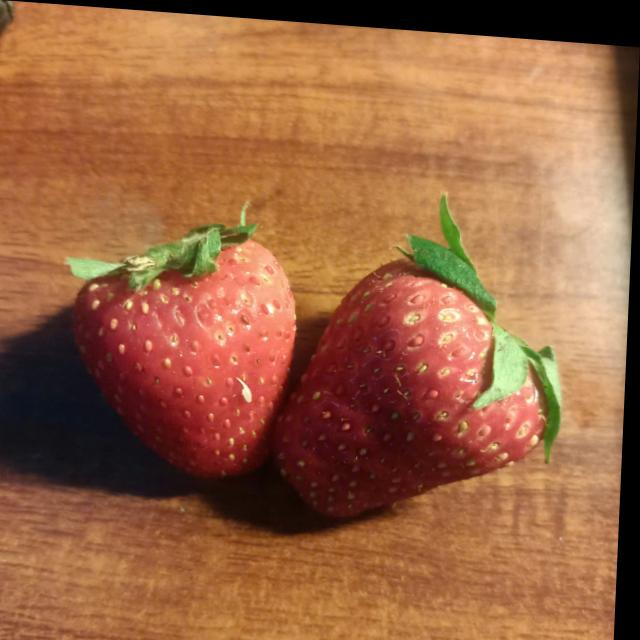DauTay: (270, 173, 591, 531), (48, 185, 304, 489)
